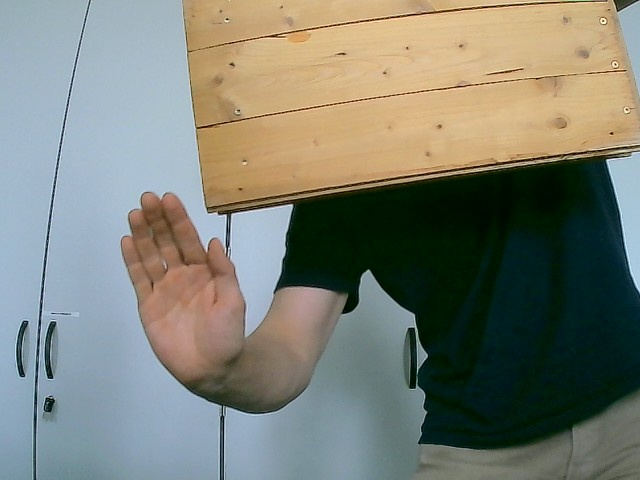stop: (119, 190, 248, 387)
